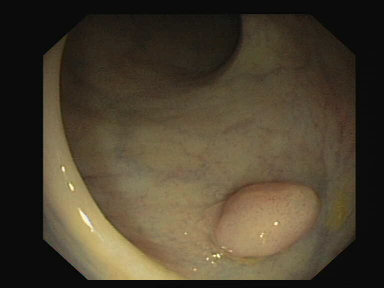polyp: (187, 157, 335, 261)
